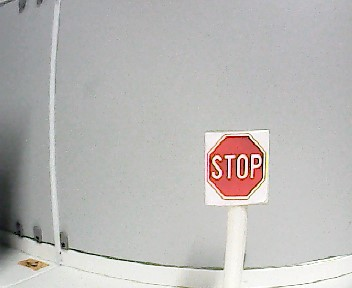stop-bord: (207, 132, 267, 199)
